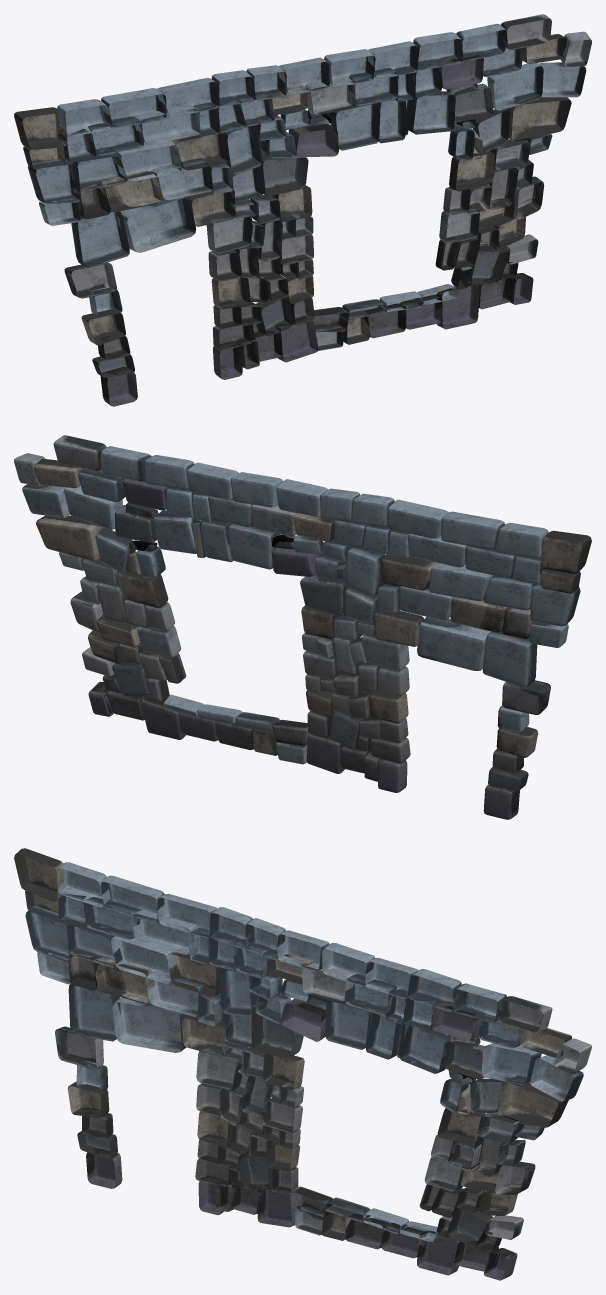
File: bricks.fbx
The picture shows the model from 3 angles, top to bottom: view 1: azimuth 30°, elevation 25°; view 2: azimuth 150°, elevation 25°; view 3: azimuth 330°, elevation 25°; orthographic projection.
Visible parts, largest first — view 1: polySurface121; view 2: polySurface121; view 3: polySurface121.
Boxes of the visible parts, left/top/right/bottom form: polySurface121: left=14, top=14, right=591, bottom=406; polySurface121: left=14, top=435, right=591, bottom=819; polySurface121: left=14, top=848, right=591, bottom=1280.
Size of the model in its own units: 1823 by 939 by 125.
